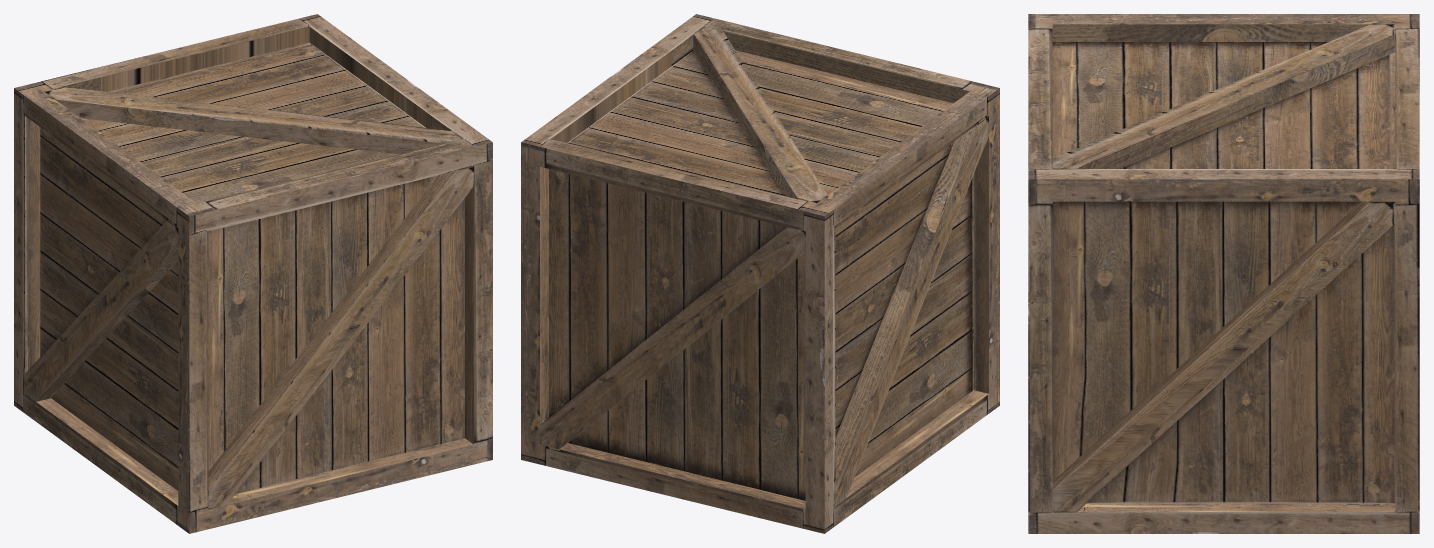
The model's file is WoodenCrate.fbx.
3 views of the same model, side by side, from view 1: azimuth 30°, elevation 25°; view 2: azimuth 150°, elevation 25°; view 3: azimuth 270°, elevation 25° (orthographic). The views are drawn at different scales.
Parts seen in each view (by area): view 1: Cube; view 2: Cube; view 3: Cube.
Part boxes in pixels (x1=…): Cube: x1=14, y1=14, x2=492, y2=533; Cube: x1=521, y1=14, x2=999, y2=533; Cube: x1=1028, y1=14, x2=1419, y2=533.
Size of the model in its own units: 200 by 200 by 200.
1 material, 1 textured.
